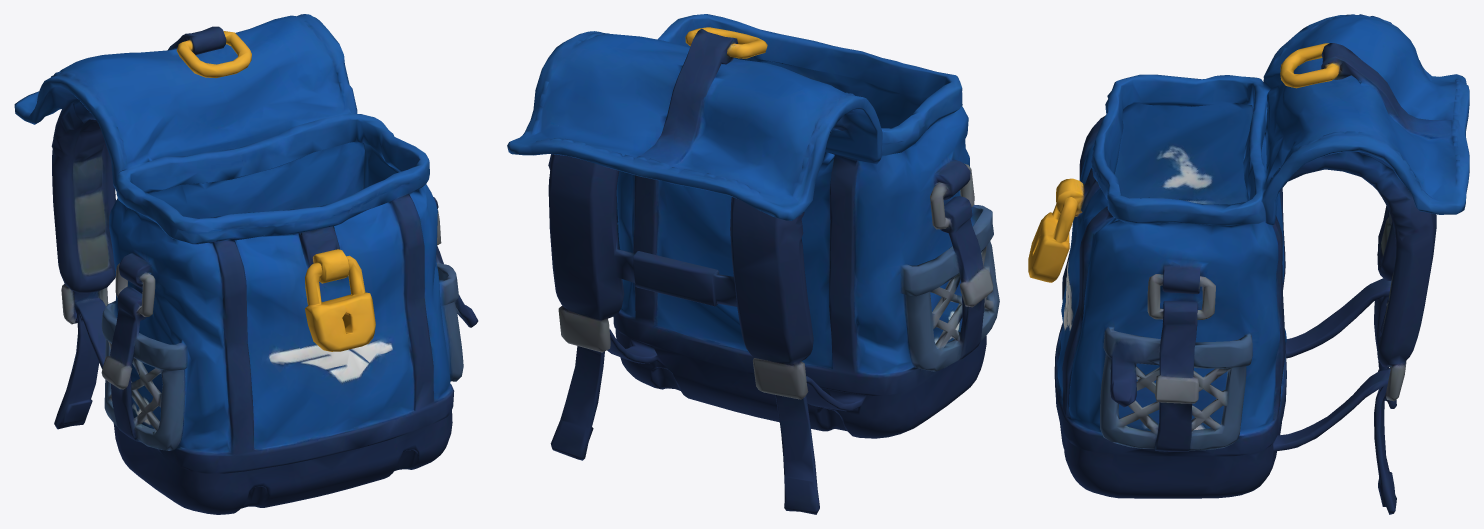
Rendered from rare-open.glb.
The picture shows the model from 3 angles, left to right: view 1: azimuth 30°, elevation 25°; view 2: azimuth 150°, elevation 25°; view 3: azimuth 270°, elevation 25°; orthographic projection. The views are drawn at different scales.
Visible parts, largest first — view 1: tripo_node_236ccf4b-8a35-4d74-b486-c7f12df71866; view 2: tripo_node_236ccf4b-8a35-4d74-b486-c7f12df71866; view 3: tripo_node_236ccf4b-8a35-4d74-b486-c7f12df71866.
Part boxes in pixels (x1,y1,x2,y2): tripo_node_236ccf4b-8a35-4d74-b486-c7f12df71866: (14,14,478,514); tripo_node_236ccf4b-8a35-4d74-b486-c7f12df71866: (507,14,999,514); tripo_node_236ccf4b-8a35-4d74-b486-c7f12df71866: (1028,14,1469,514).
Size of the model in its own units: 0.9133 by 1 by 0.9839.
1 material, 1 textured.
